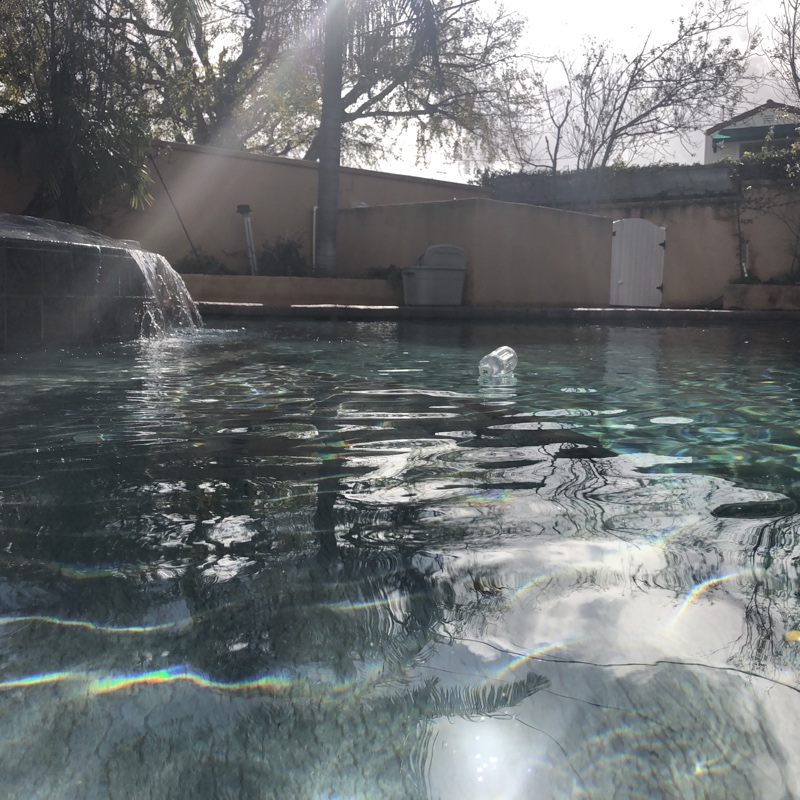Plastic Bottle: (474, 342, 522, 383)
